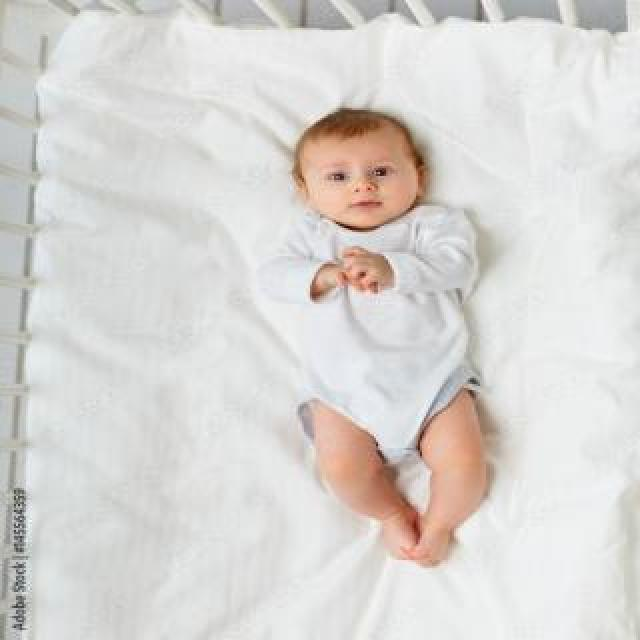baby: (251, 108, 497, 560)
